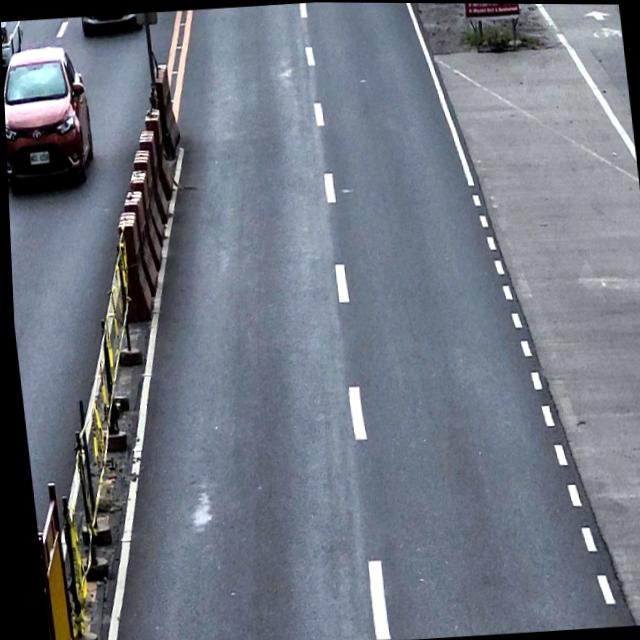Car: (2, 43, 97, 194), (79, 12, 145, 38), (1, 20, 25, 70)
License-Plate: (27, 151, 49, 164)
